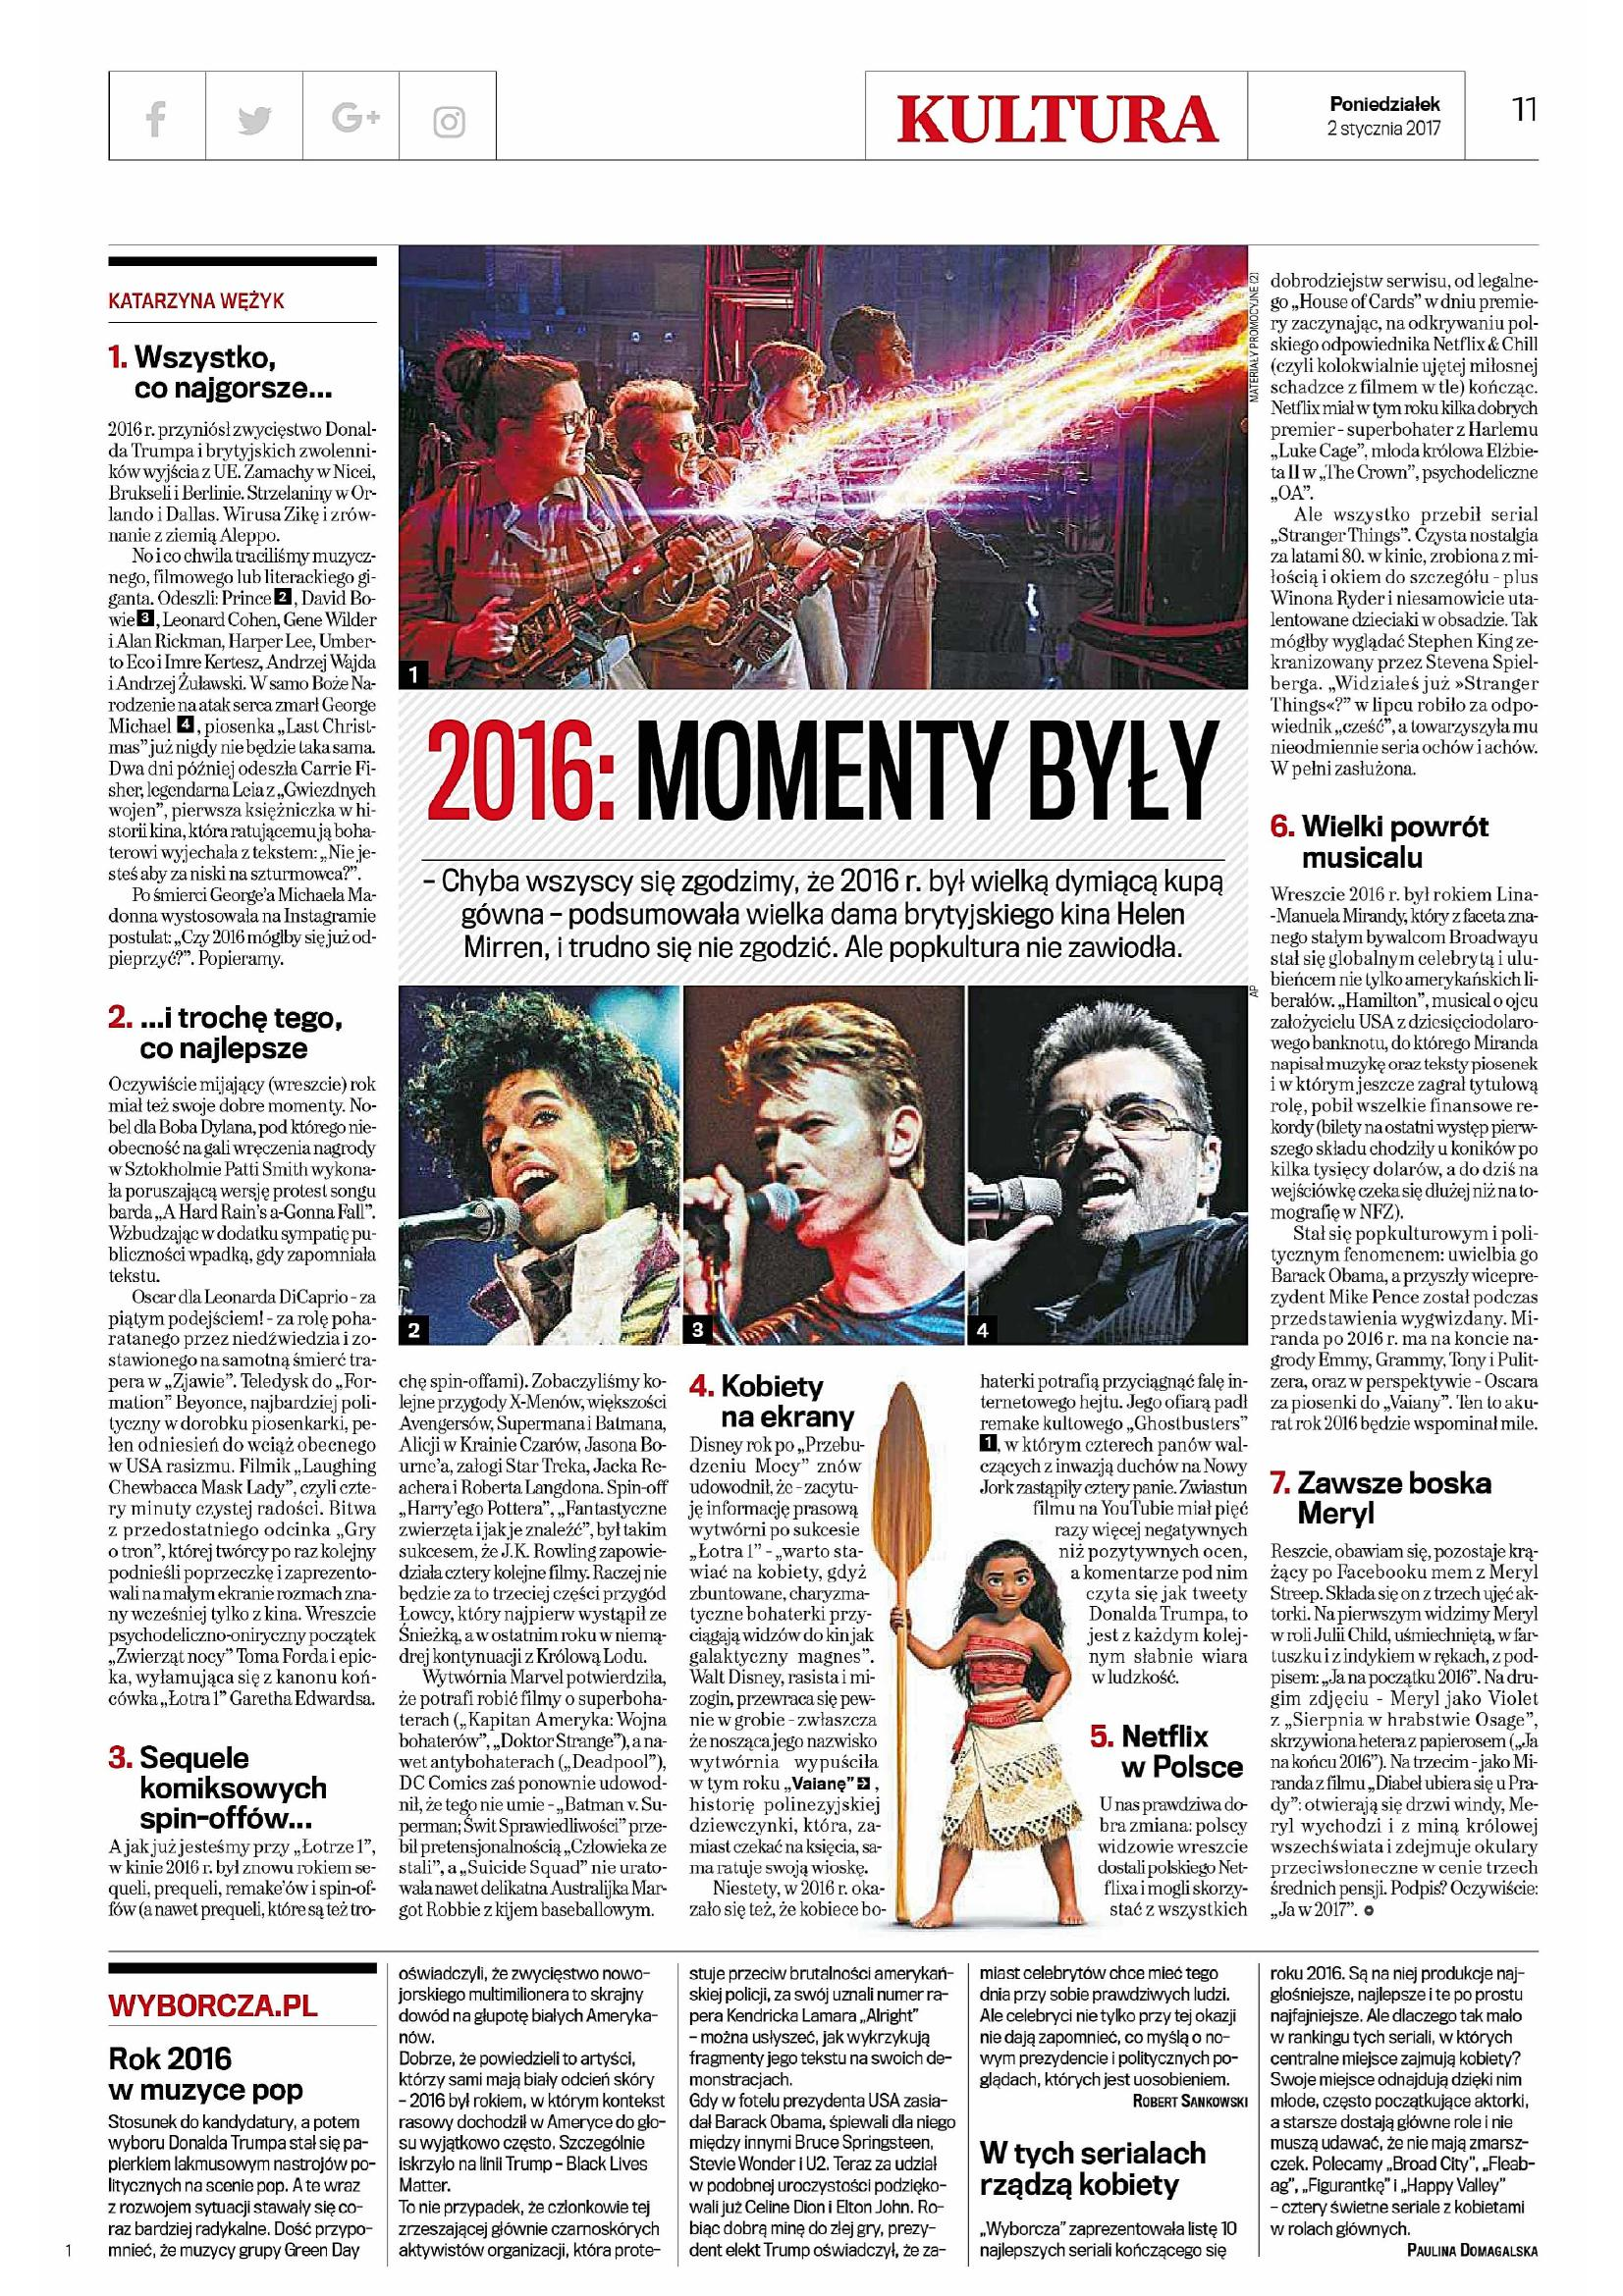article: (98, 242, 1558, 1934), (100, 1955, 1551, 2282)
